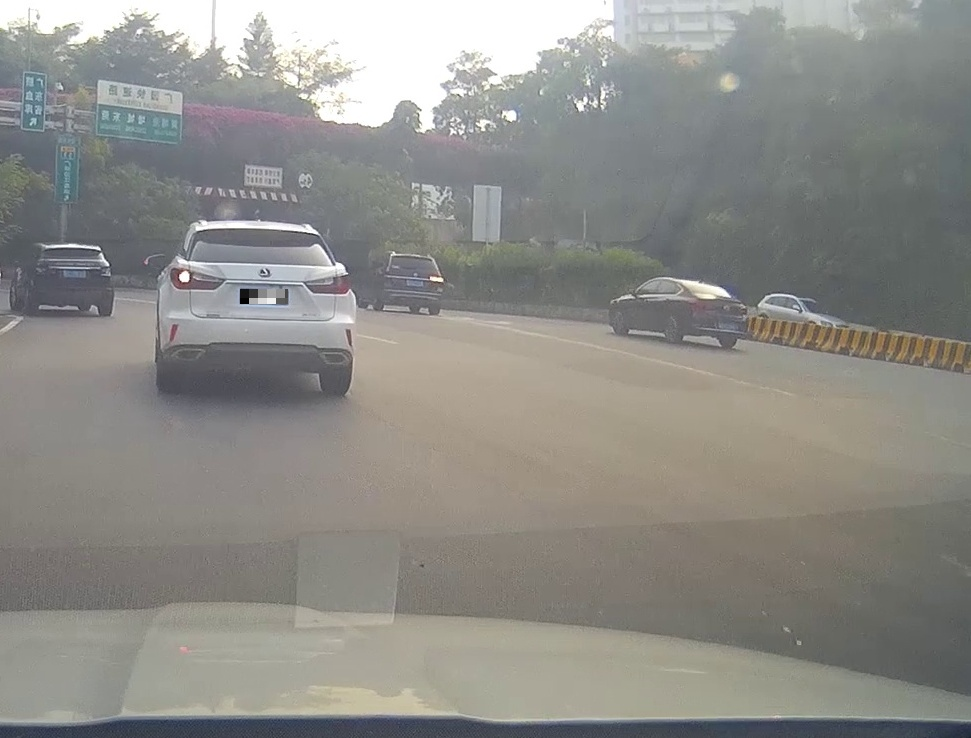L_light: (169, 266, 224, 291), (383, 271, 396, 276)
R_light: (305, 273, 352, 295), (429, 275, 444, 282)
T_light: (248, 229, 270, 232), (409, 257, 419, 259)
day-left: (165, 222, 354, 397)
day-right: (381, 253, 444, 314)
plate_1: (240, 289, 288, 304)
